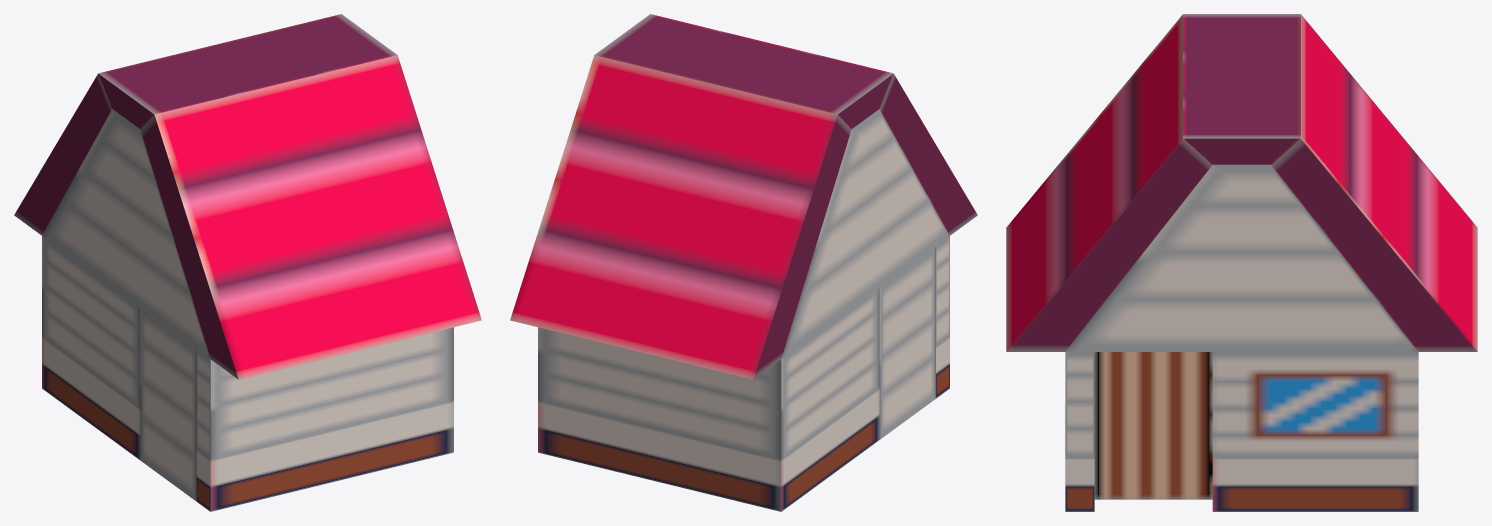
File: house_2.gltf
3 views of the same model, side by side, from view 1: azimuth 30°, elevation 25°; view 2: azimuth 150°, elevation 25°; view 3: azimuth 270°, elevation 25° (orthographic). The views are drawn at different scales.
Bounding box in the file's own units: 2.5 × 3.5 × 4.
Materials: 1 (1 with a texture image).
